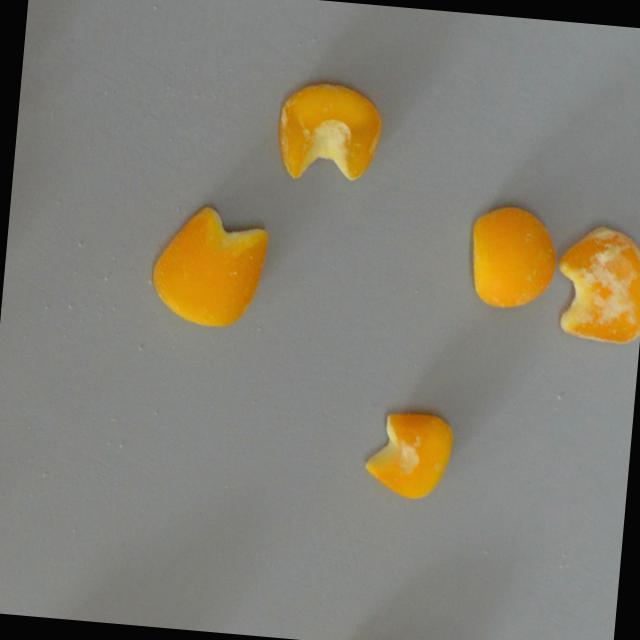no_canjicado: (147, 201, 269, 331), (361, 407, 454, 501)
pelicula: (273, 80, 385, 185), (552, 221, 640, 346), (465, 201, 560, 312)
